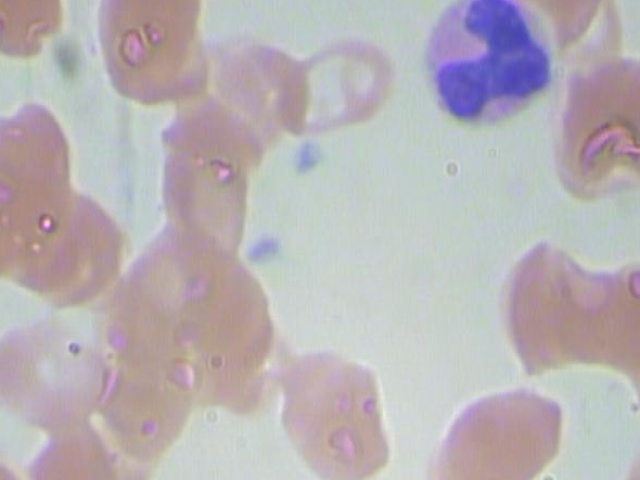Platelets: (243, 223, 294, 274), (284, 132, 336, 182)
RBC: (480, 231, 603, 369), (275, 348, 398, 480), (98, 289, 195, 456), (157, 113, 253, 280), (423, 380, 575, 480), (547, 49, 640, 207), (272, 30, 398, 146), (0, 300, 105, 439), (0, 101, 79, 268), (90, 0, 209, 103), (0, 0, 72, 69)
WBC: (414, 0, 563, 137)
